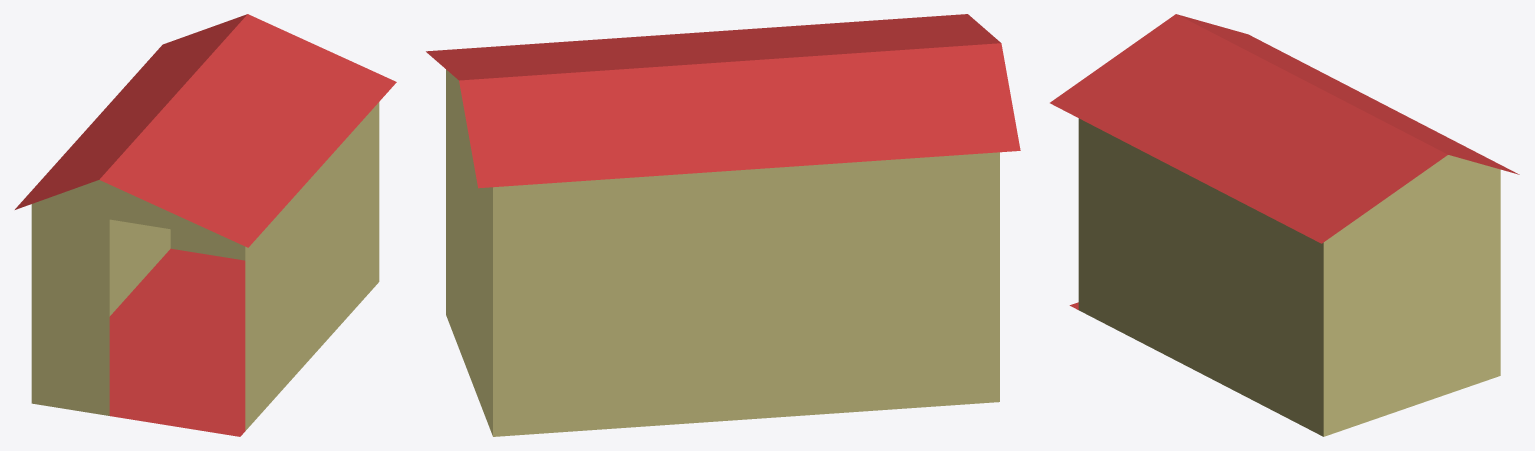
The picture shows the model from 3 angles, left to right: view 1: azimuth 30°, elevation 25°; view 2: azimuth 150°, elevation 25°; view 3: azimuth 270°, elevation 25°; orthographic projection. The views are drawn at different scales.
Size of the model in its own units: 17.54 by 16.67 by 9.64.
